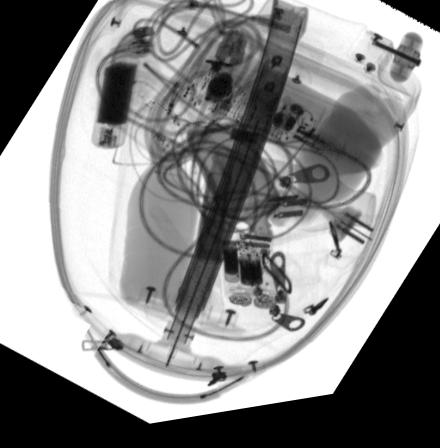Powerbank: (90, 63, 138, 153)
